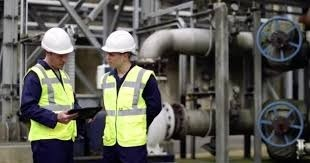helmet: (39, 25, 80, 58), (100, 27, 139, 56)
person: (23, 25, 83, 160), (95, 29, 154, 159)
safety vest: (101, 70, 151, 145), (30, 67, 79, 138)
